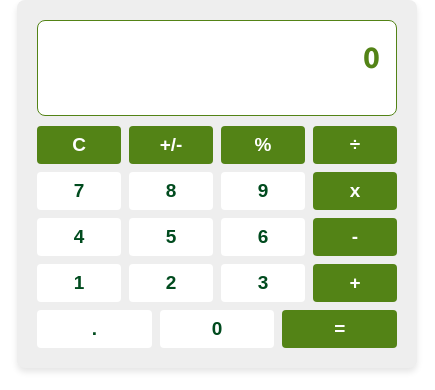
Test: Calculator › handles division by zero gracefully
Click the button "4": (79, 237) left=37, top=218, right=121, bottom=256
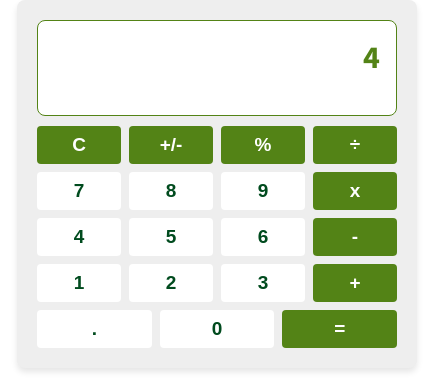
Click the button "÷": (355, 145) left=313, top=126, right=397, bottom=164
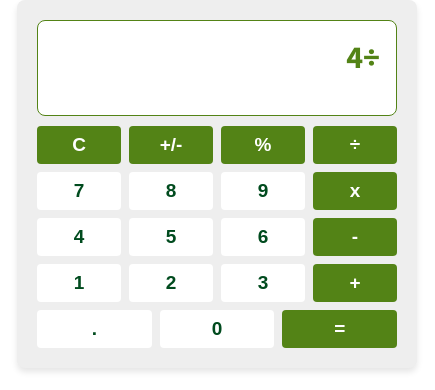
Click the button "0": (217, 329) left=160, top=310, right=274, bottom=348
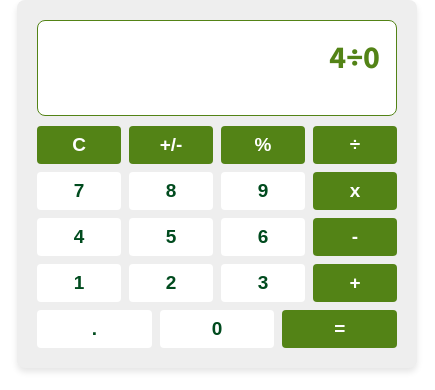
Click the button "=": (340, 329) left=282, top=310, right=397, bottom=348
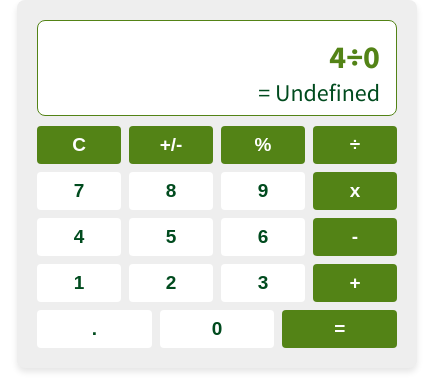
Check: the text with test id "displayOutput" shows "Undefined", box left=258, top=77, right=380, bottom=108
